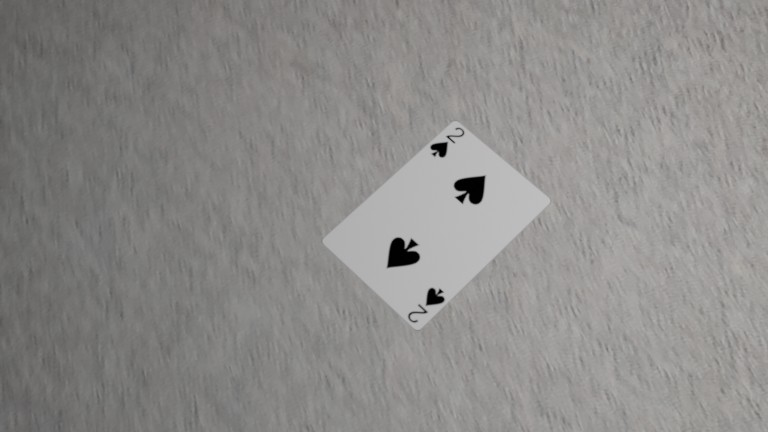2_of_spades: (401, 281, 452, 330), (424, 122, 472, 164)
